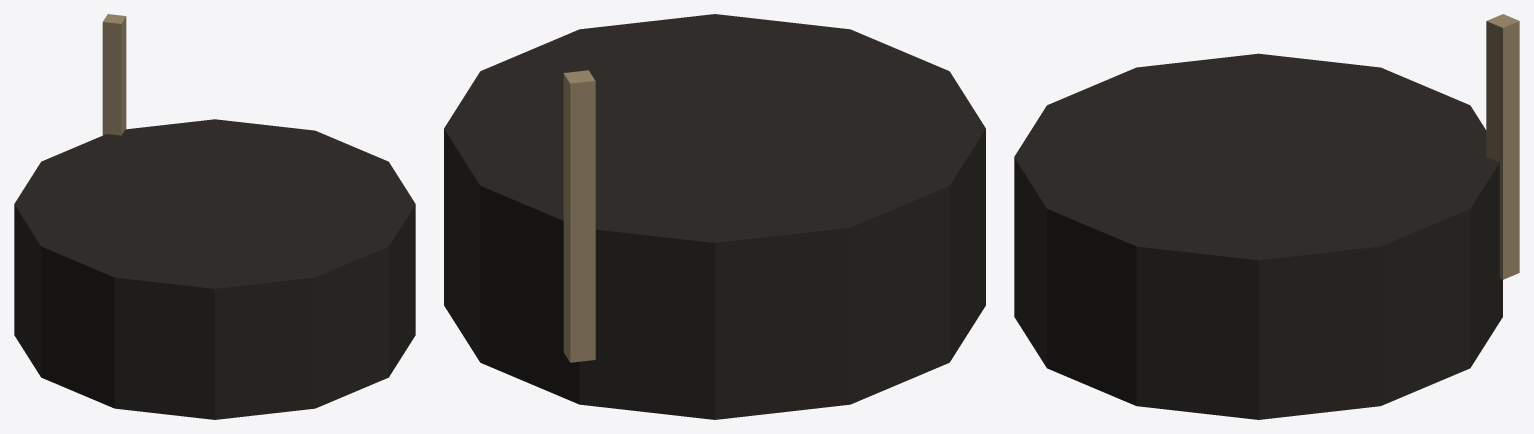
The model's file is P_TyreFender.glb.
3 views of the same model, side by side, from view 1: azimuth 30°, elevation 25°; view 2: azimuth 150°, elevation 25°; view 3: azimuth 270°, elevation 25° (orthographic). The views are drawn at different scales.
Parts seen in each view (by area): view 1: P_TyreFender; view 2: P_TyreFender; view 3: P_TyreFender.
Part boxes in pixels (x1=…): P_TyreFender: x1=14, y1=14, x2=415, y2=419; P_TyreFender: x1=444, y1=14, x2=985, y2=419; P_TyreFender: x1=1014, y1=14, x2=1519, y2=419.
Size of the model in its own units: 0.88 by 0.5871 by 0.91.
